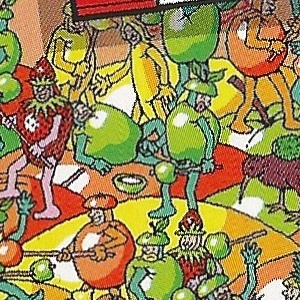Odlaw: (45, 39, 109, 256)
Wenda: (193, 39, 233, 256)
Wizard Whitebeard: (122, 39, 178, 260)
